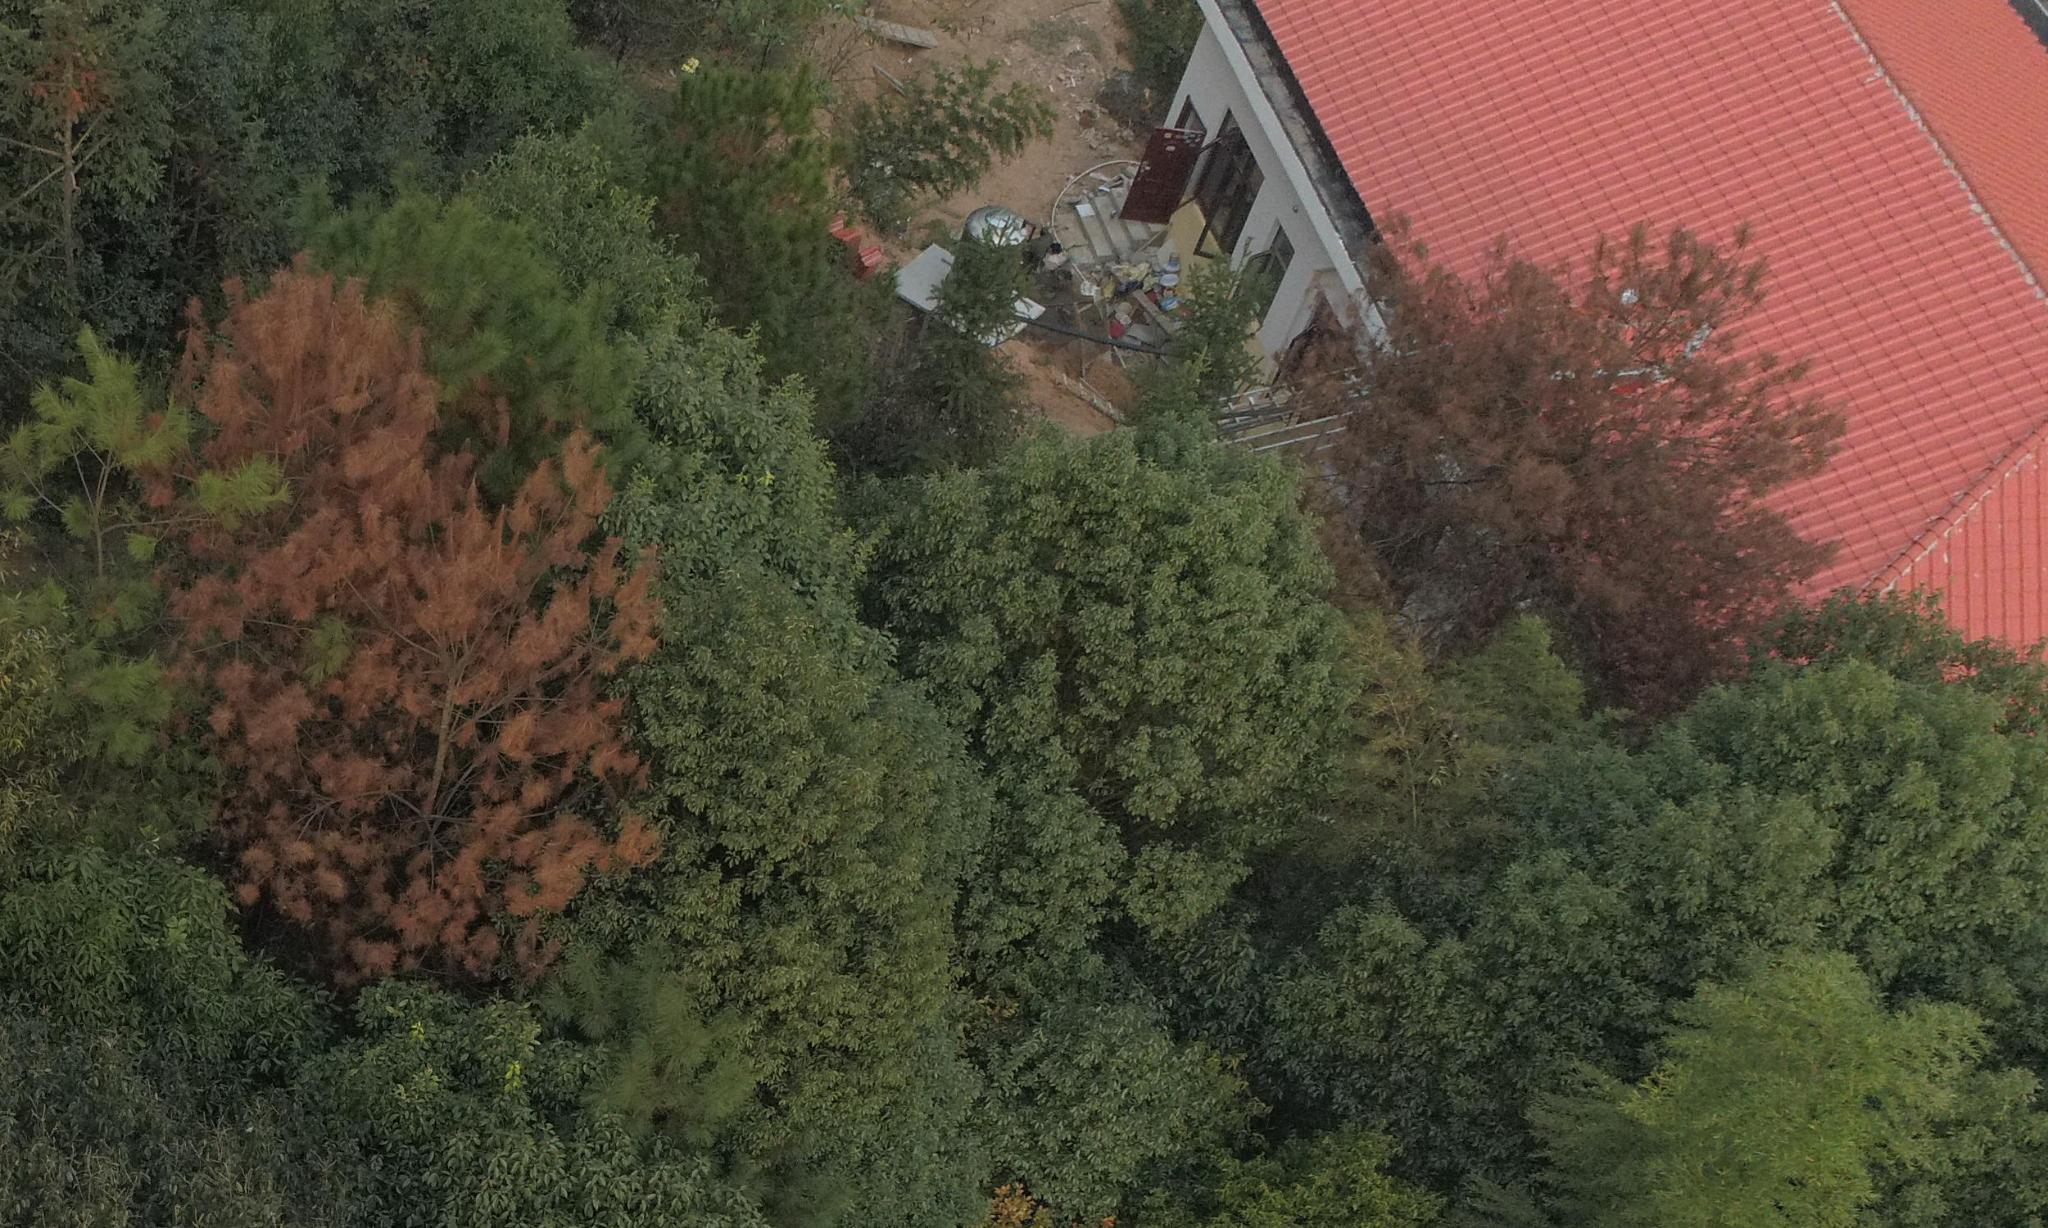heavy: (123, 253, 667, 1009), (1329, 221, 1823, 691)
